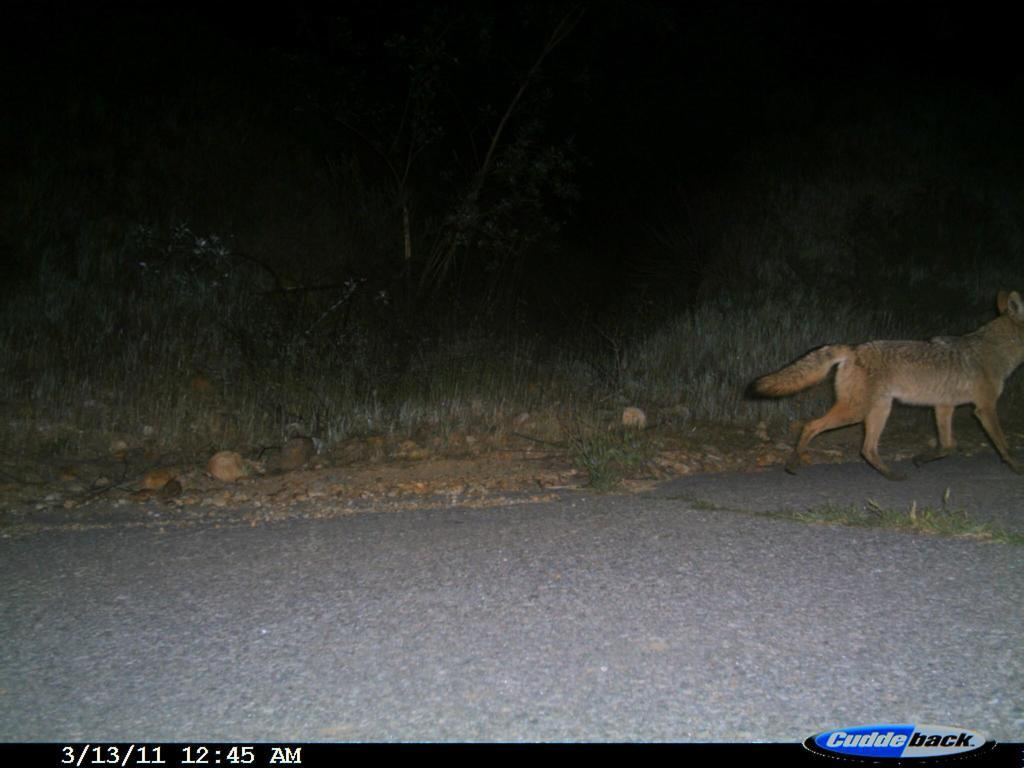coyote: (738, 280, 1023, 492)
